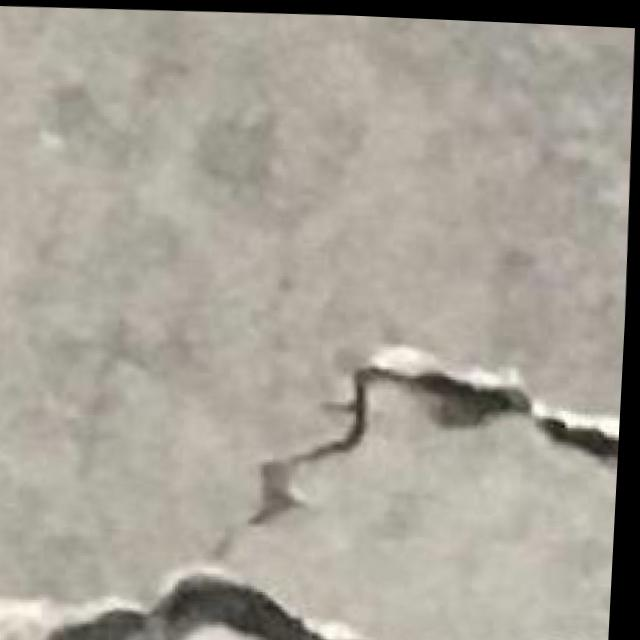Crack: (199, 320, 627, 575), (0, 538, 618, 640)
